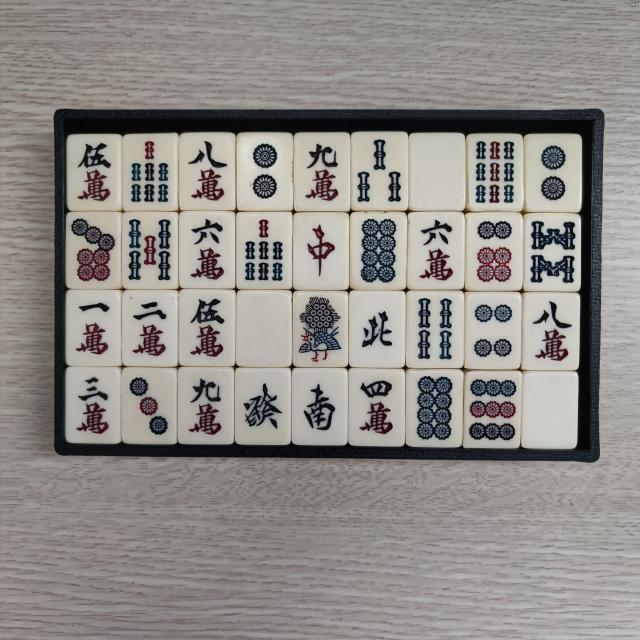hdg: (242, 374, 288, 441)
hdr: (298, 217, 343, 284)
hdw: (415, 138, 462, 205), (243, 296, 289, 362), (531, 380, 575, 444)
hwn: (354, 300, 400, 364)
hws: (298, 374, 343, 440)
sb1: (296, 295, 344, 364)
sb3: (355, 134, 405, 206)
sb4: (411, 294, 458, 364)
sb5: (128, 214, 176, 284)
sb7: (125, 138, 173, 207), (242, 217, 290, 284)
sb8: (530, 218, 580, 288)
sb9: (472, 136, 518, 208)
sc1: (70, 294, 114, 360)
sc2: (127, 298, 171, 364)
sc3: (72, 371, 116, 438)
sc4: (352, 376, 398, 442)
sc5: (184, 294, 232, 362), (74, 139, 118, 206)
sc6: (184, 217, 230, 286), (416, 217, 460, 286)
sc8: (184, 137, 232, 206), (530, 300, 576, 369)
sc9: (298, 138, 344, 208), (182, 372, 227, 440)
sd2: (244, 138, 288, 208), (531, 140, 574, 208)
sd3: (126, 375, 170, 441)
sd4: (471, 296, 517, 364)
sd6: (472, 218, 517, 286)
sd7: (72, 218, 118, 284)
sd8: (356, 217, 403, 286), (412, 374, 458, 442)
sd9: (468, 378, 518, 445)
